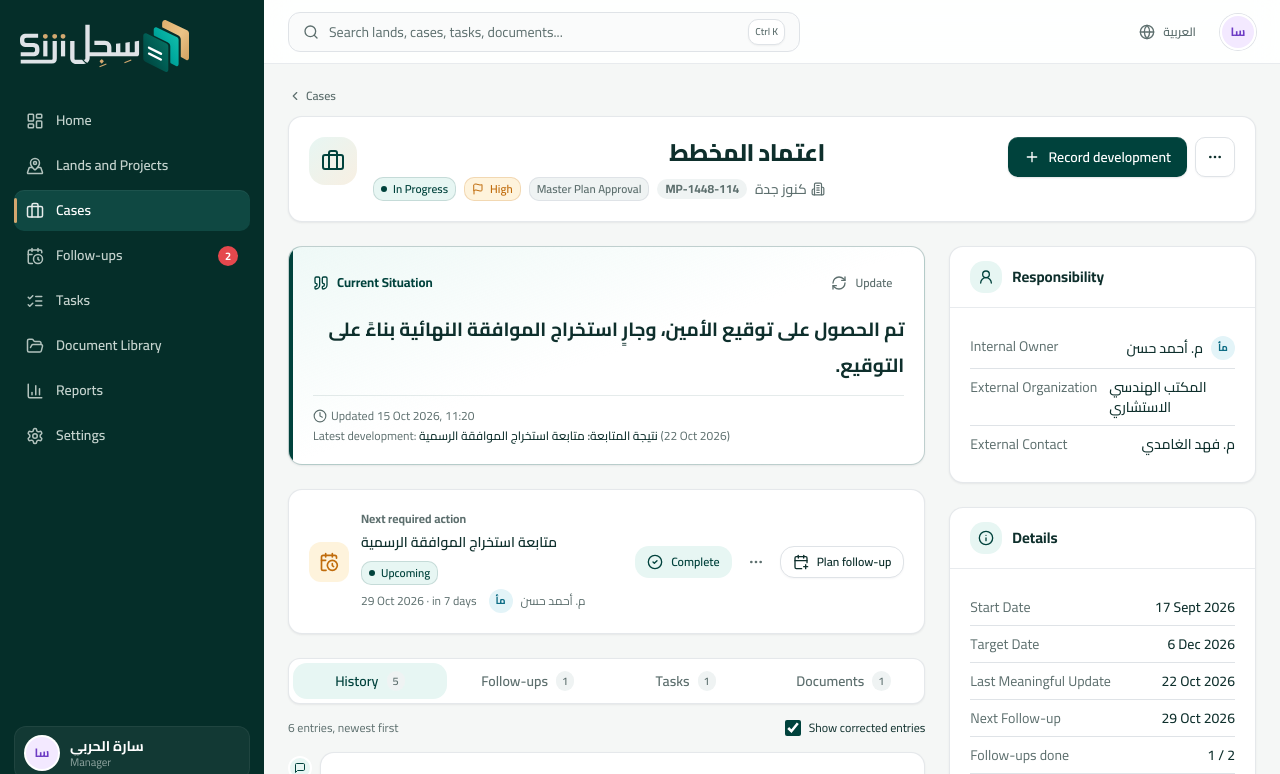
it: follow-ups › completes a follow-up with its outcome and plans the next one in one step (AC-01 step 4)
The image size is (1280, 774).
Click the button "Complete" at (683, 562), box [635,546,732,578]
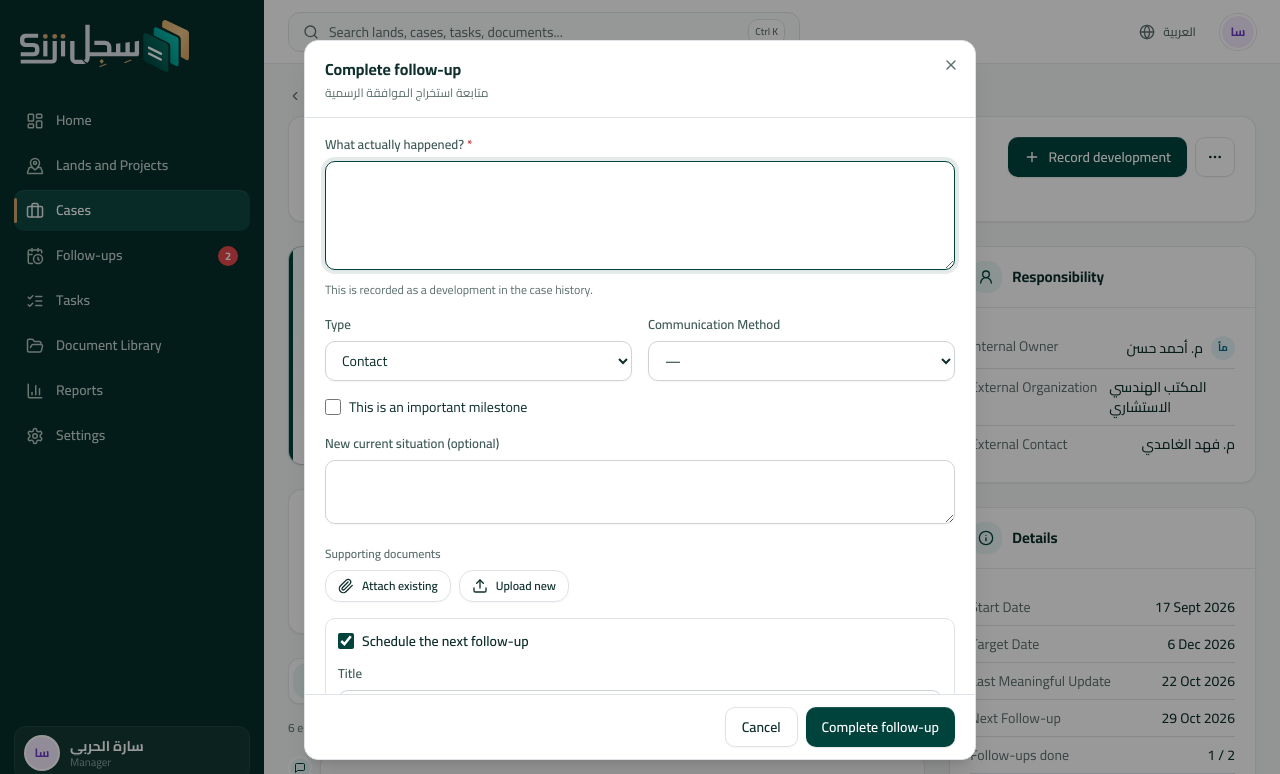
The outcome is mandatory, even when nothing moved.
Click the button "Complete follow-up" at (880, 727), box [806,707,955,747]
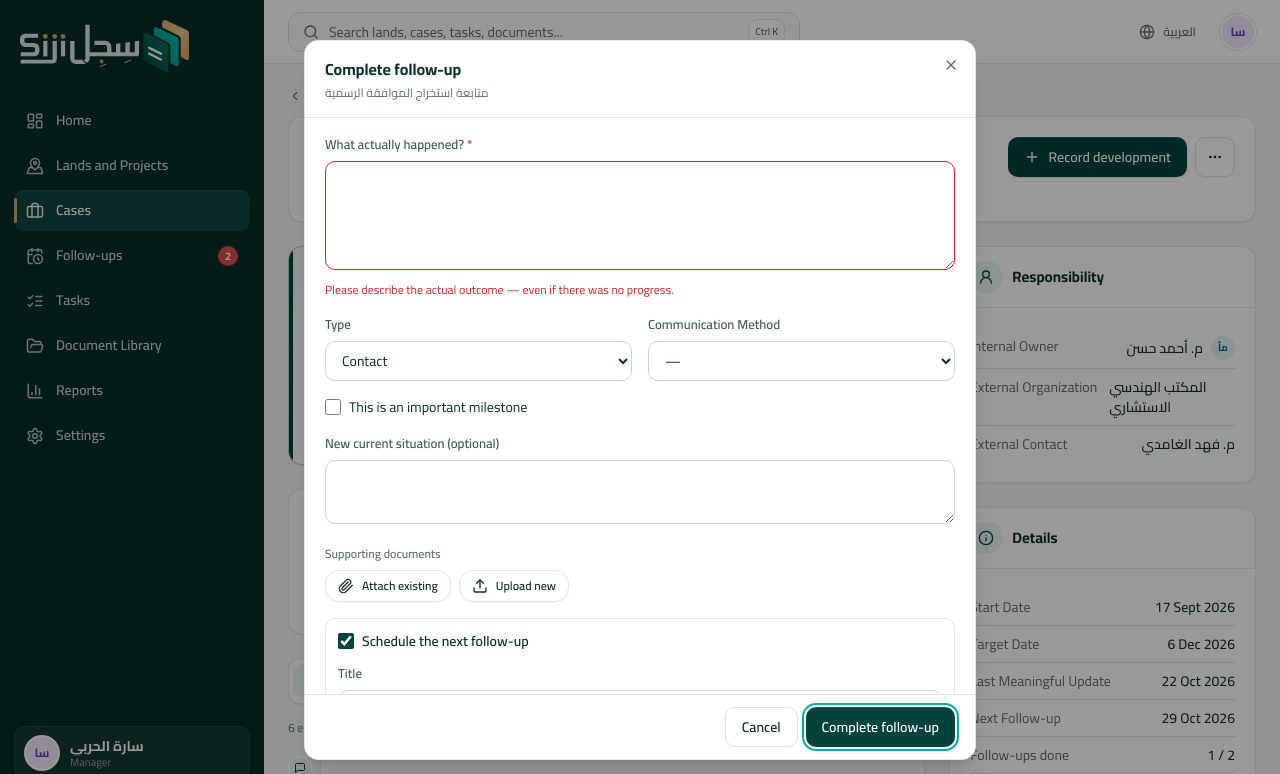
Check: the text "Please describe the actual outcome — even if there was no progress." is shown, box [325,278,674,301]
Type "Approval still not issued." into the text box labelled "What actually happened? *" at (640, 216), box [325,161,955,270]
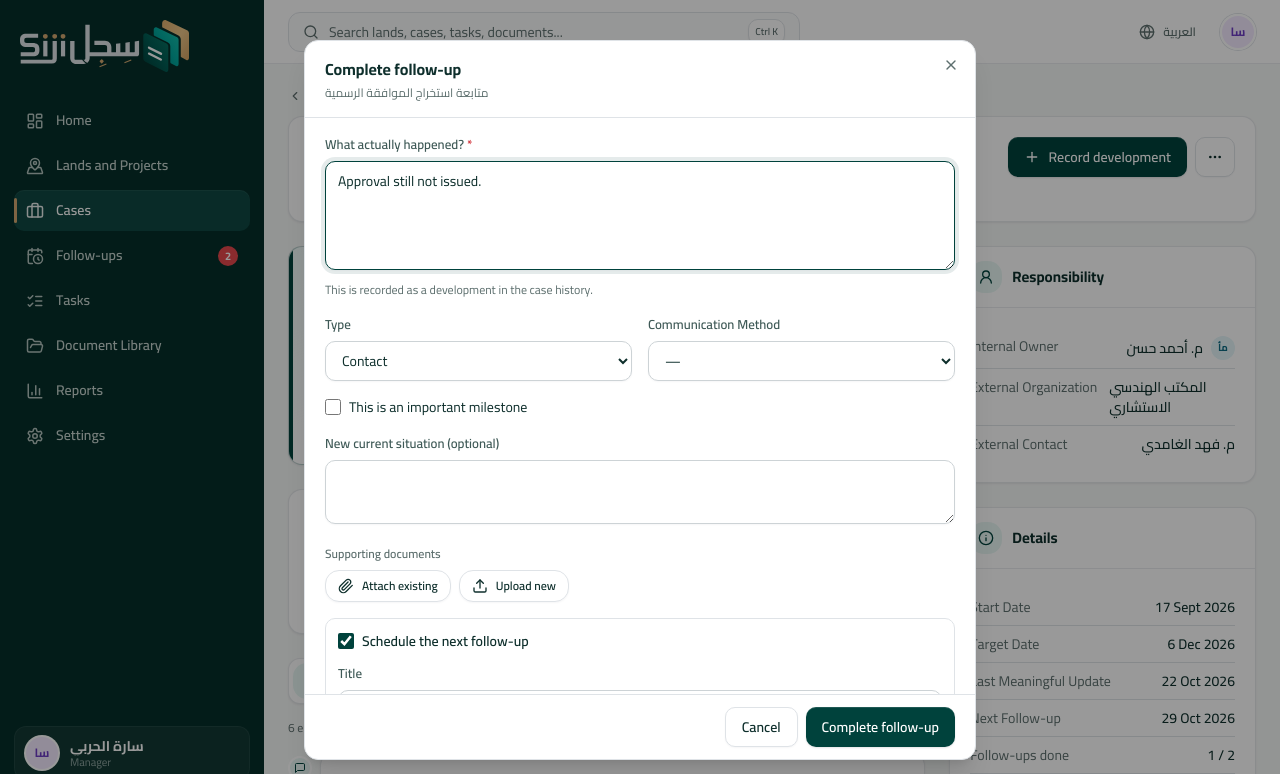
Double-click the button "Complete follow-up" at (880, 727), box [806,707,955,747]
(page scrolled)
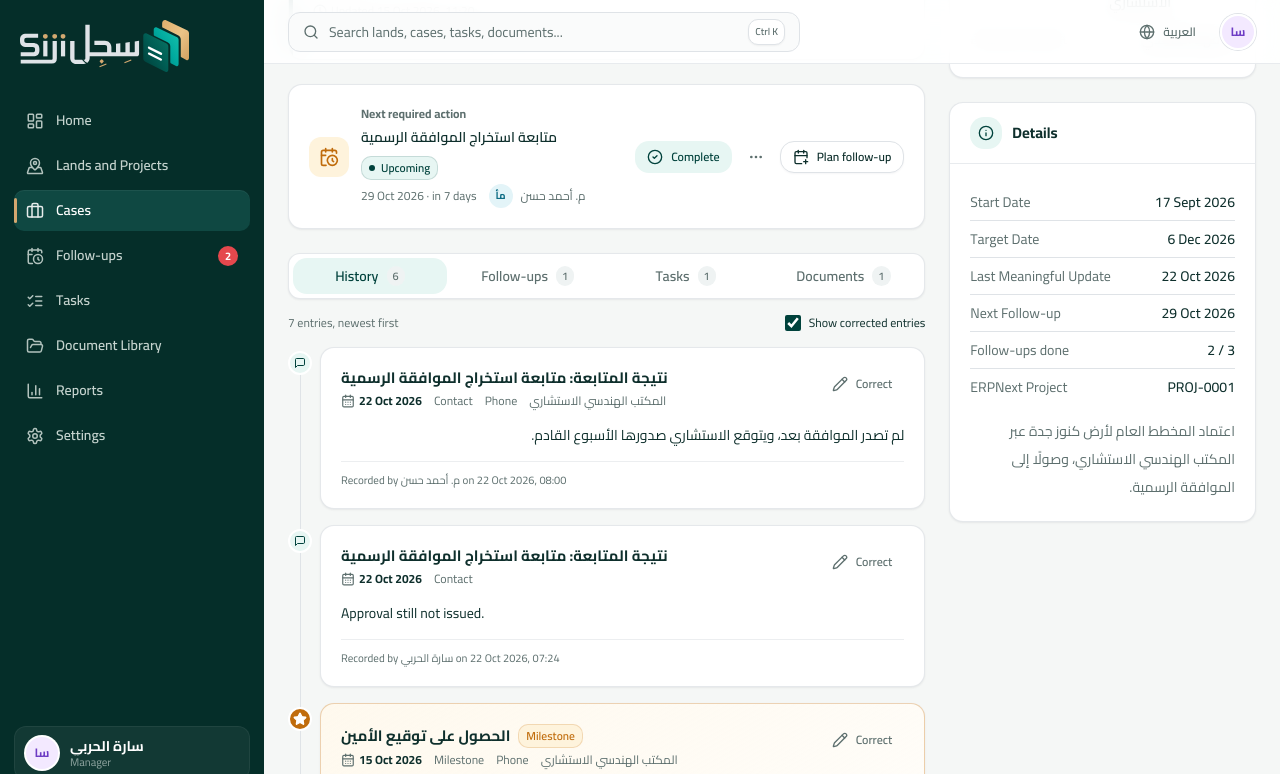
Check: the 1st text "Contact" is shown, box [434,393,473,409]
Check: the dialog is gone
Check: the text "Approval still not issued." is shown, box [341,600,484,626]
